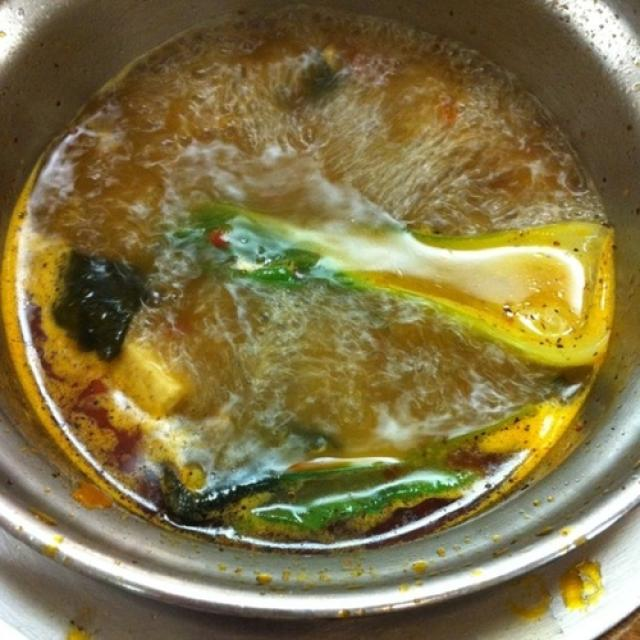汤锅炖物: (8, 10, 627, 618)
